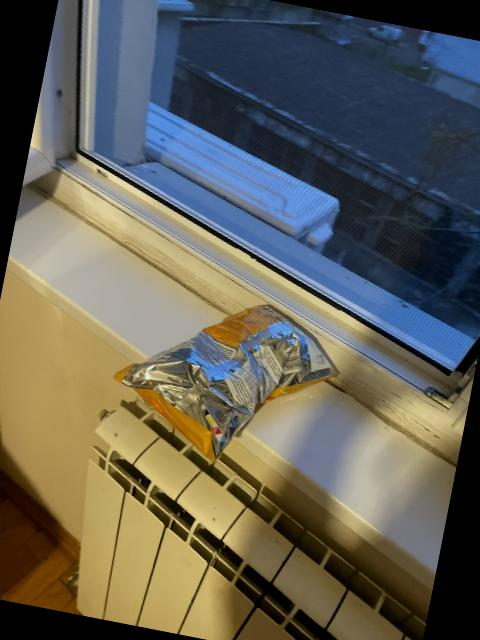Chio Hula Hoops Cheese 70g: (101, 276, 345, 471)
